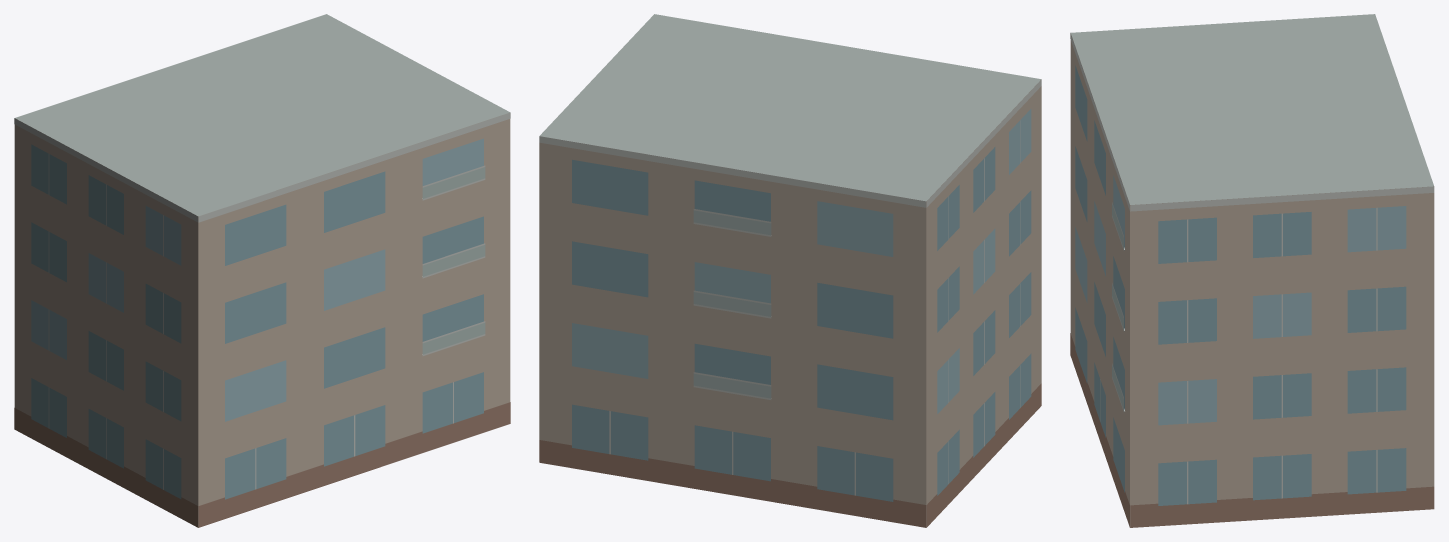
File: residential-bceec34e-7fce-4057-9e11-48af9ff3bf94.glb
3 renders of one model, left to right at view 1: azimuth 30°, elevation 25°; view 2: azimuth 150°, elevation 25°; view 3: azimuth 270°, elevation 25°, orthographic. The views are drawn at different scales.
Visible parts, largest first — view 1: residential-bceec34e-7fce-4057-9e11-48af9ff3bf94.tmp; view 2: residential-bceec34e-7fce-4057-9e11-48af9ff3bf94.tmp; view 3: residential-bceec34e-7fce-4057-9e11-48af9ff3bf94.tmp.
Boxes of the visible parts, left/top/right/bottom form: residential-bceec34e-7fce-4057-9e11-48af9ff3bf94.tmp: left=14, top=14, right=510, bottom=527; residential-bceec34e-7fce-4057-9e11-48af9ff3bf94.tmp: left=539, top=14, right=1041, bottom=527; residential-bceec34e-7fce-4057-9e11-48af9ff3bf94.tmp: left=1070, top=14, right=1434, bottom=527.
Size of the model in its own units: 15.5 by 12.2 by 12.47.
